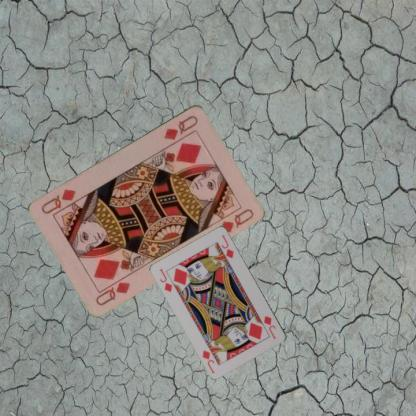Jd: (157, 266, 174, 294), (261, 313, 277, 340)
Qd: (93, 272, 132, 306), (161, 112, 201, 141)
